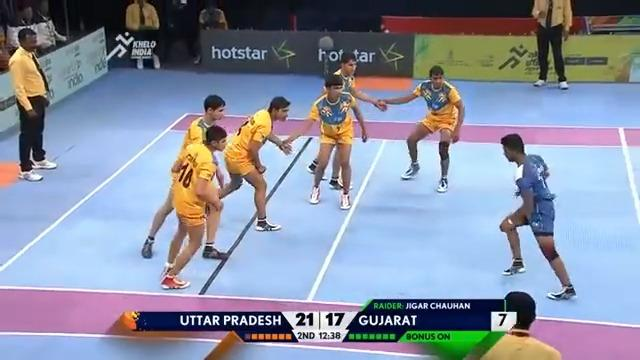Player: (206, 95, 294, 232), (280, 73, 368, 209), (159, 124, 228, 290), (376, 64, 465, 192), (306, 51, 384, 190), (478, 290, 562, 359), (530, 0, 573, 89)
Raider: (498, 132, 577, 300)
referee: (6, 27, 57, 181), (161, 0, 202, 66), (198, 1, 228, 30)
